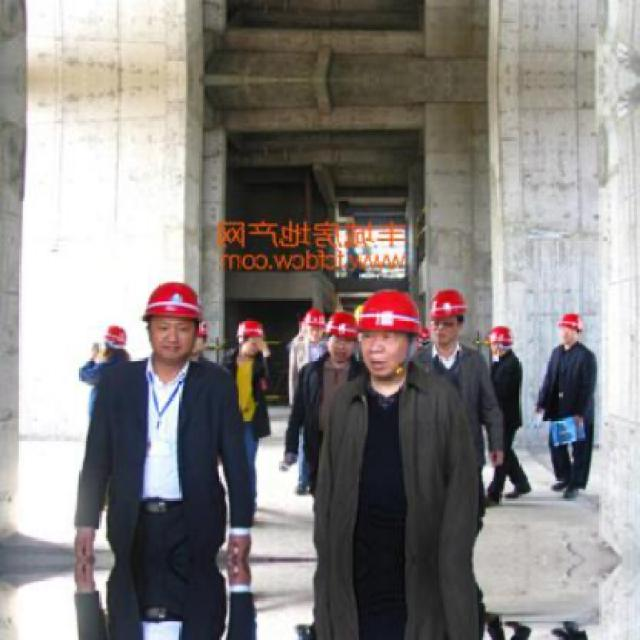helmet: (355, 283, 423, 386), (140, 278, 206, 364), (431, 286, 469, 348), (226, 317, 268, 360), (294, 305, 331, 349), (551, 311, 591, 351), (97, 324, 134, 362), (328, 309, 357, 357), (488, 325, 518, 360)
